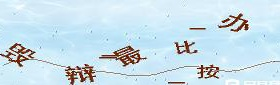chinese: (113, 43, 142, 67), (2, 46, 34, 67), (221, 14, 251, 34), (67, 65, 95, 85), (175, 38, 197, 56), (195, 65, 221, 79)
